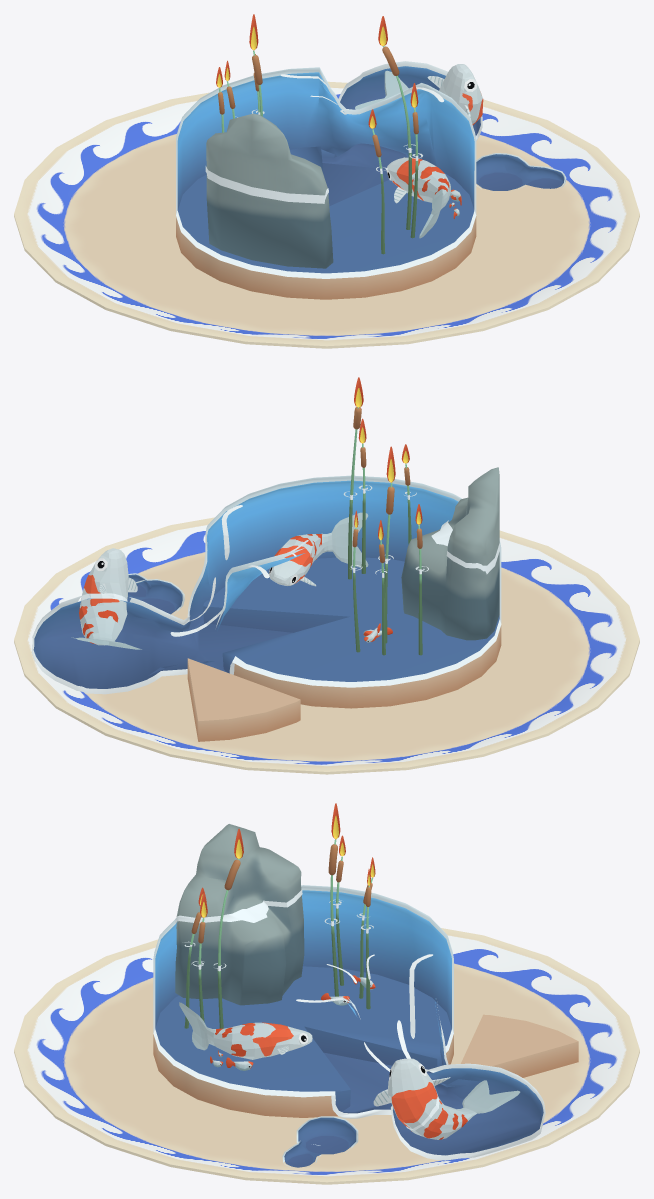
3 views of the same model, one above another, from view 1: azimuth 30°, elevation 25°; view 2: azimuth 150°, elevation 25°; view 3: azimuth 270°, elevation 25° (orthographic).
Visible parts, largest first — view 1: Dish, Cake Top Inner, Rock, Cake Base, Cake Top, Inner Drip, Fish.001, Fish.002, Cake Outline, Reed Stem.004; view 2: Dish, Cake Top Inner, Rock, Cake Base Slice, Cake Top, Cake Base, Fish.002, Fish.001, Inner Drip, Cake Outline; view 3: Dish, Cake Top Inner, Rock, Fish.002, Cake Base Slice, Cake Top, Cake Base, Fish.001, Inner Drip, Cake Outline.
Boxes of the visible parts, x1,y1,x2,y2 form: Dish: [14, 81, 639, 348]; Cake Top Inner: [177, 66, 480, 273]; Rock: [206, 113, 333, 268]; Cake Base: [176, 216, 476, 299]; Cake Top: [176, 61, 482, 278]; Inner Drip: [476, 154, 564, 190]; Fish.001: [386, 157, 451, 238]; Fish.002: [355, 64, 483, 125]; Cake Outline: [205, 112, 418, 203]; Reed Stem.004: [383, 46, 411, 229]; Dish: [14, 517, 639, 774]; Cake Top Inner: [33, 480, 499, 688]; Rock: [401, 467, 499, 640]; Cake Base Slice: [187, 658, 300, 741]; Cake Top: [31, 475, 501, 694]; Cake Base: [233, 625, 501, 708]; Fish.002: [71, 548, 141, 649]; Fish.001: [268, 512, 368, 586]; Inner Drip: [127, 574, 182, 614]; Cake Outline: [80, 488, 499, 601]; Dish: [14, 928, 639, 1184]; Cake Top Inner: [155, 890, 543, 1155]; Rock: [175, 824, 304, 1005]; Fish.002: [373, 1058, 520, 1139]; Cake Base Slice: [461, 1014, 578, 1077]; Cake Top: [153, 885, 545, 1160]; Cake Base: [153, 1034, 453, 1117]; Fish.001: [179, 1002, 312, 1059]; Inner Drip: [284, 1117, 356, 1167]; Cake Outline: [175, 889, 439, 1130].
Size of the model in its own units: 116 by 51.48 by 116.
Materials: 2 (2 with a texture image).
